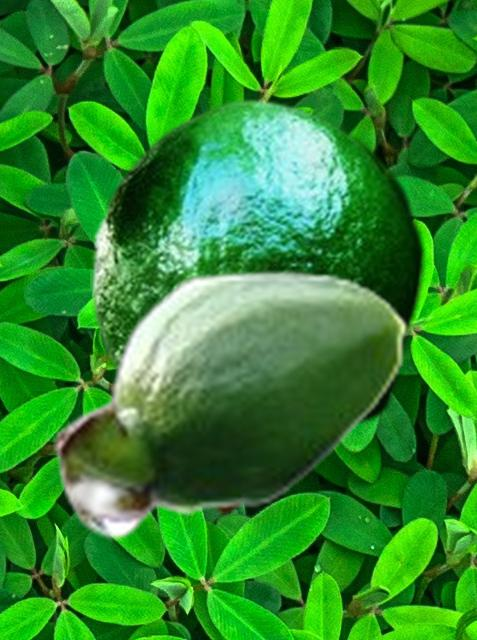guava: (90, 96, 426, 516), (53, 268, 408, 540)
